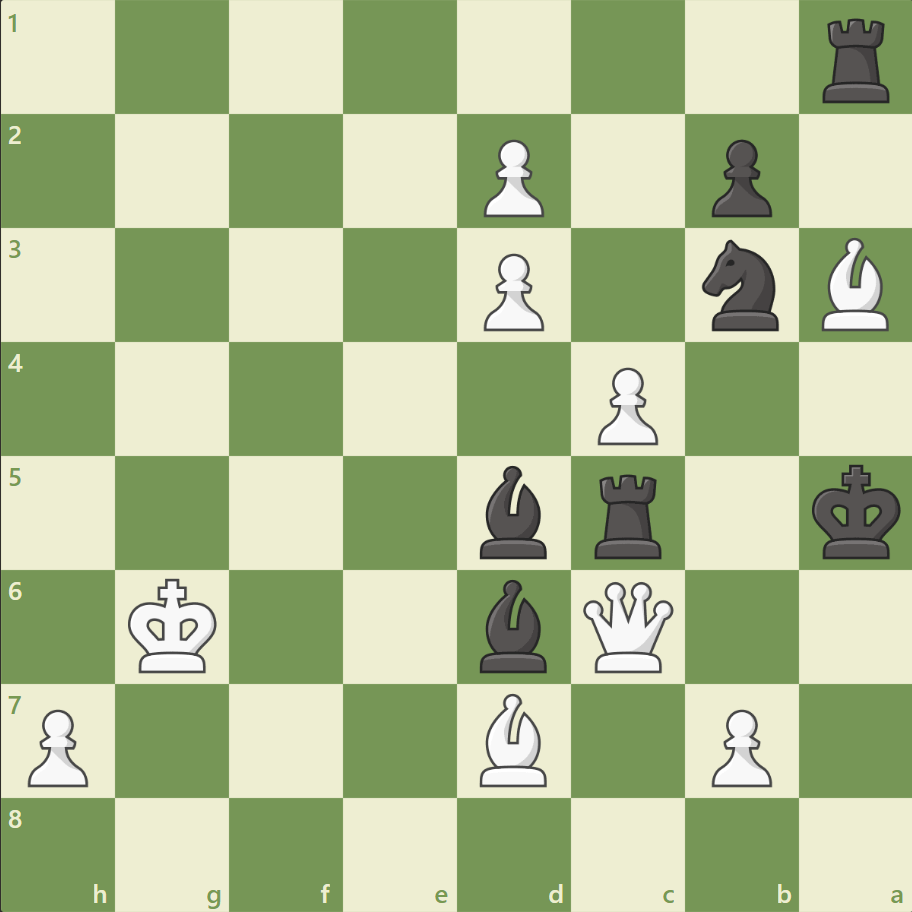B: (471, 687, 555, 790), (812, 233, 896, 336)
K: (124, 571, 224, 679)
P: (701, 700, 776, 791), (20, 700, 95, 791), (474, 246, 549, 337), (474, 132, 549, 223), (588, 359, 662, 450)
Q: (578, 576, 677, 676)
b: (471, 460, 555, 563), (471, 574, 555, 676)
k: (806, 458, 906, 566)
n: (692, 234, 789, 337)
p: (701, 132, 776, 223)
r: (587, 466, 670, 563), (814, 12, 897, 109)
